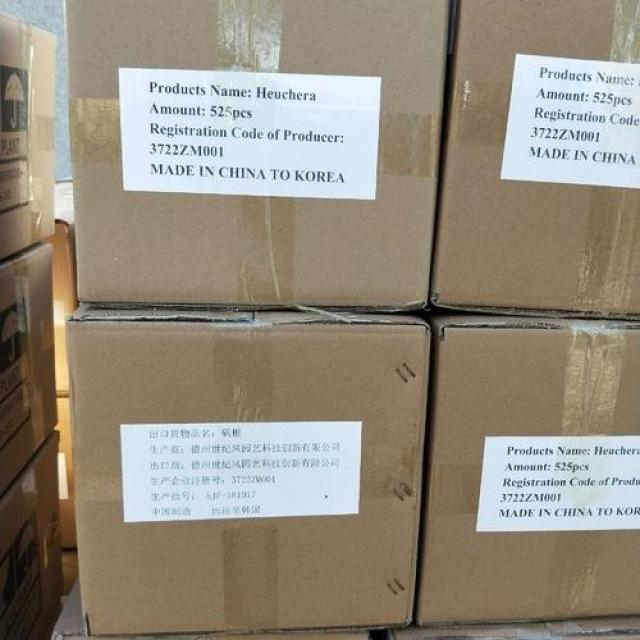box: (67, 305, 431, 636), (65, 0, 451, 310), (419, 319, 640, 626), (428, 0, 640, 320), (0, 241, 59, 498), (0, 12, 59, 261), (0, 431, 63, 640), (52, 179, 77, 396), (58, 397, 77, 553)
